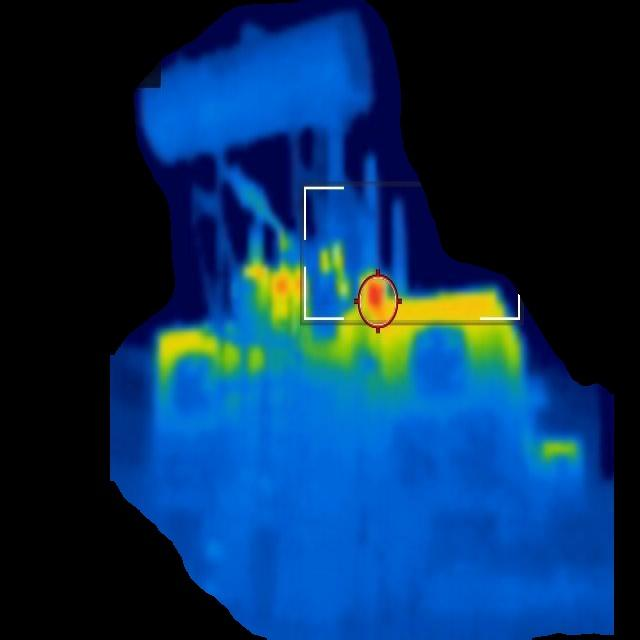Loose Joint F: (359, 275, 393, 310)
Loose Joint PF: (250, 264, 308, 308)
Point Overload PF: (542, 444, 592, 466)
Transformer Overload: (156, 294, 524, 383)
